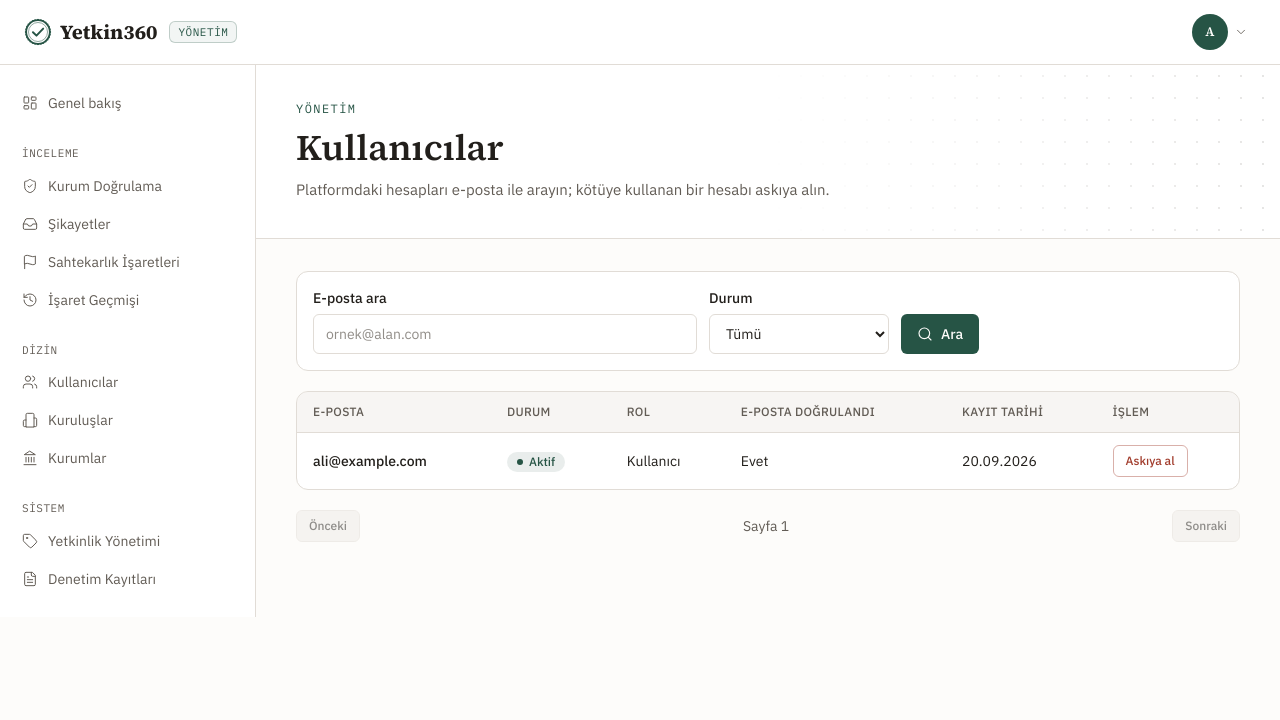
it: KullanicilarPage (/admin/kullanicilar) › suspends only after confirmation
Step 1. Click the button "Askıya al" → point(1150, 461), box [1113,445,1188,477]
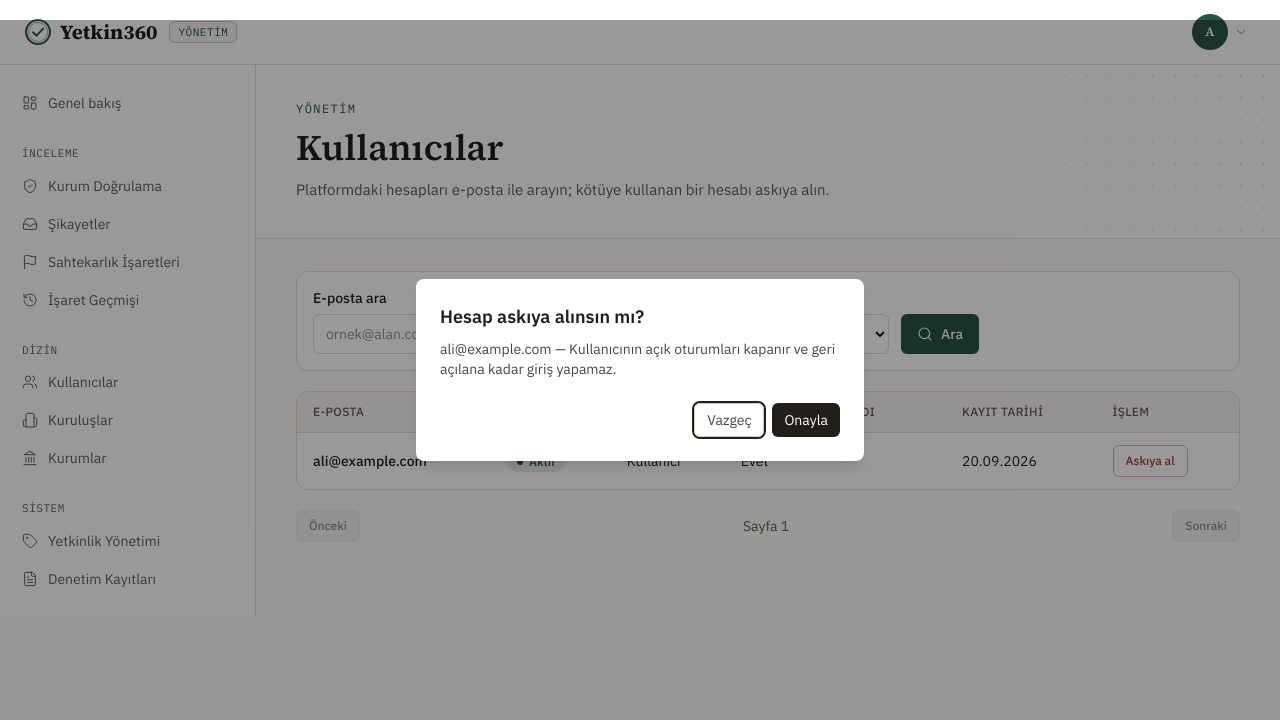
Now the dialog is shown, box [416,279,864,461]
Step 2. Click the button "Onayla" → point(806, 420), box [772,403,840,437]
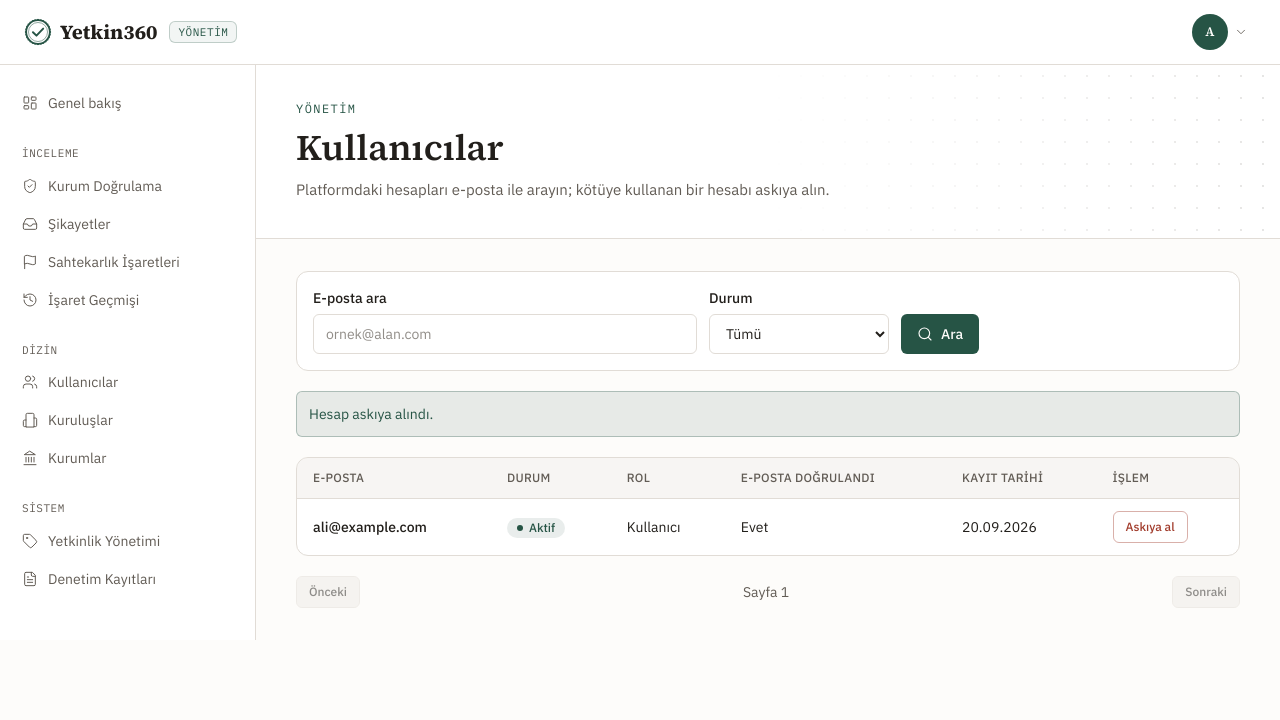
Now the text "Hesap askıya alındı." is shown, box [296,391,1240,437]
